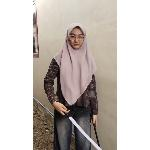Pedang: (58, 102, 105, 150)
